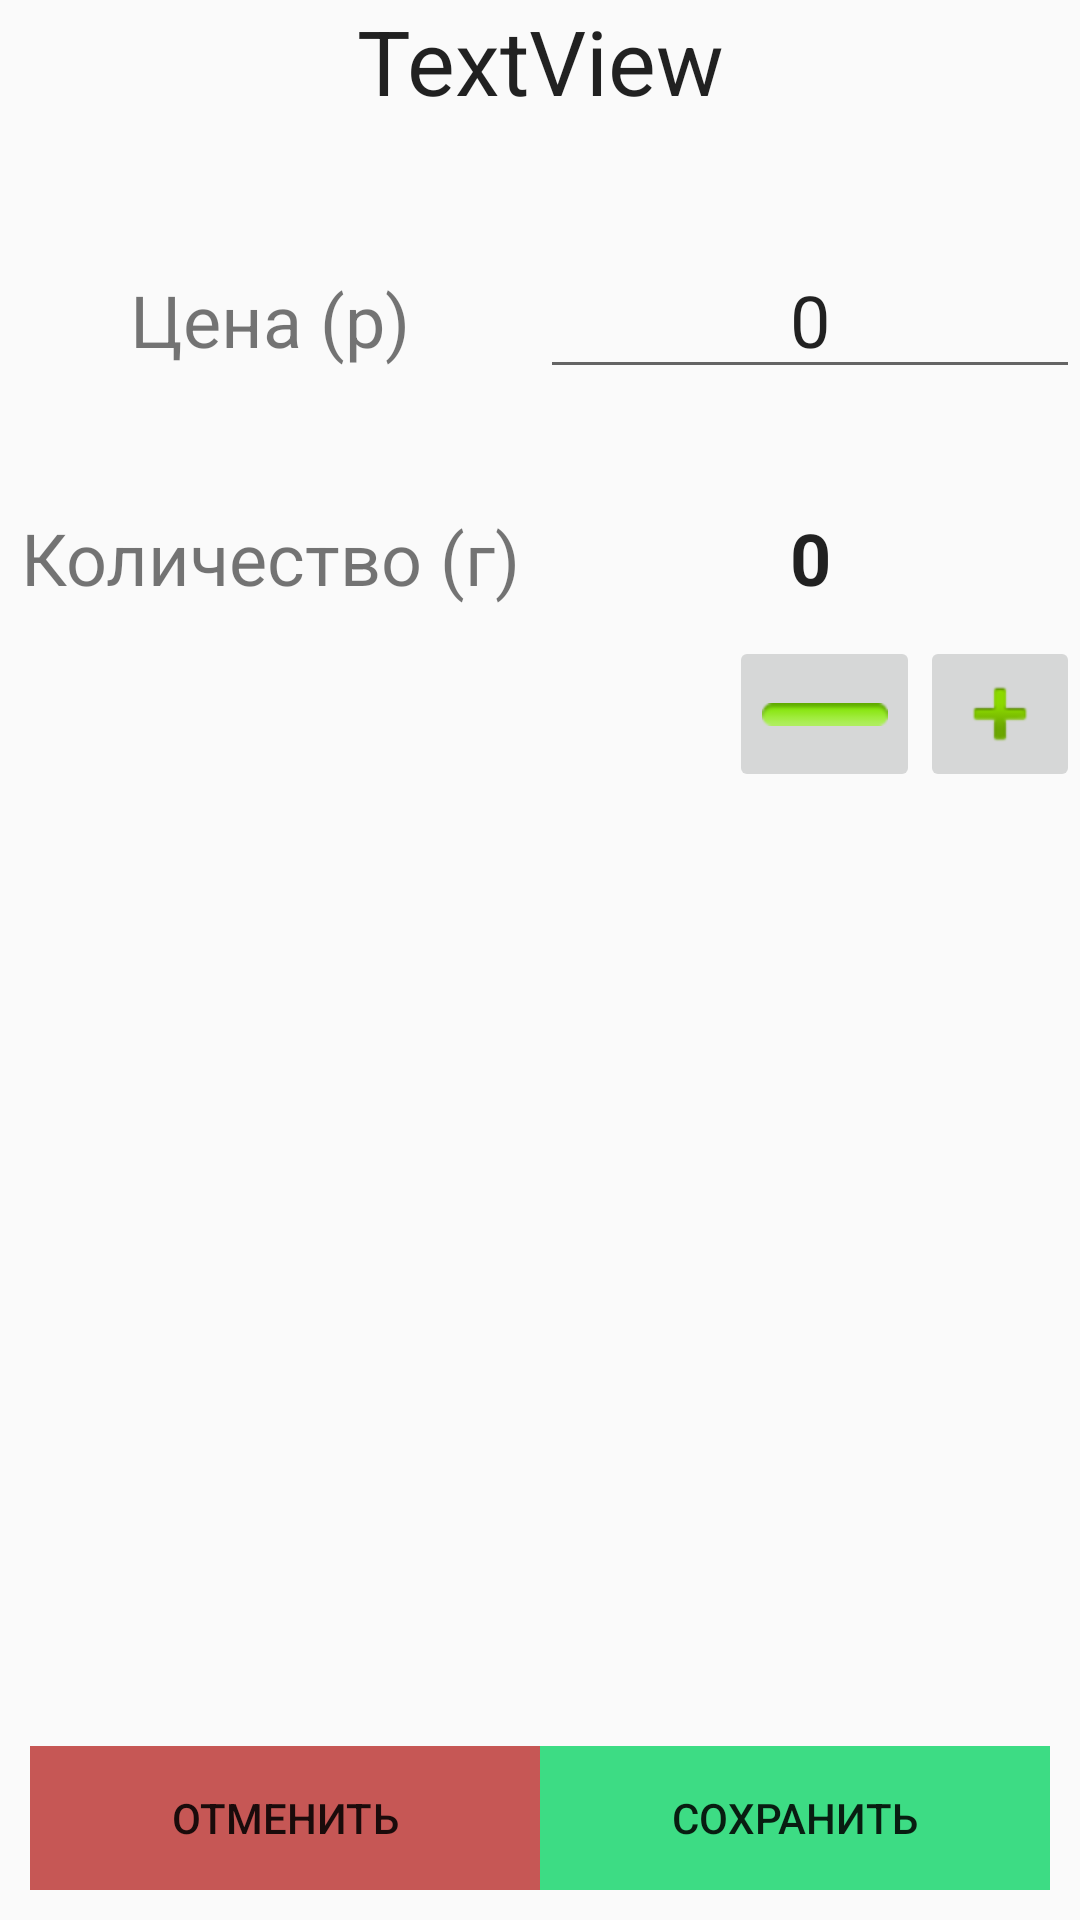

Screen size 1080×1920. Icon name, then its box in pixels as bbox=(x1, y1, x2, y2):
add: bbox=(932, 654, 1068, 774)
